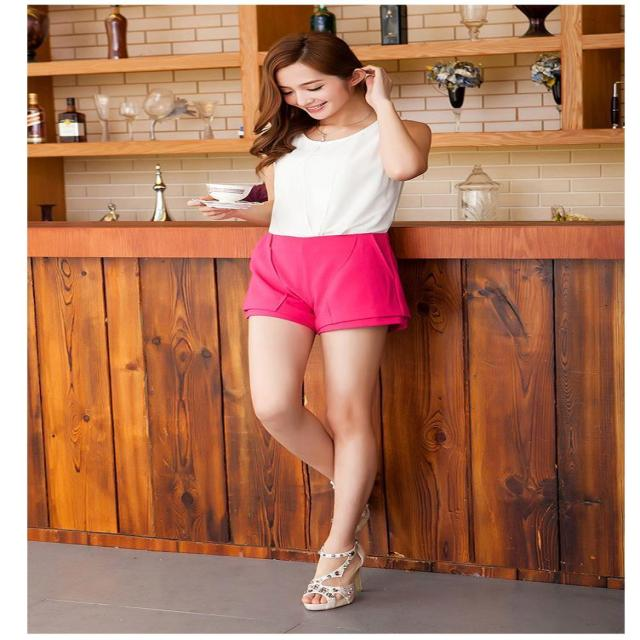shorts: (207, 234, 467, 358)
